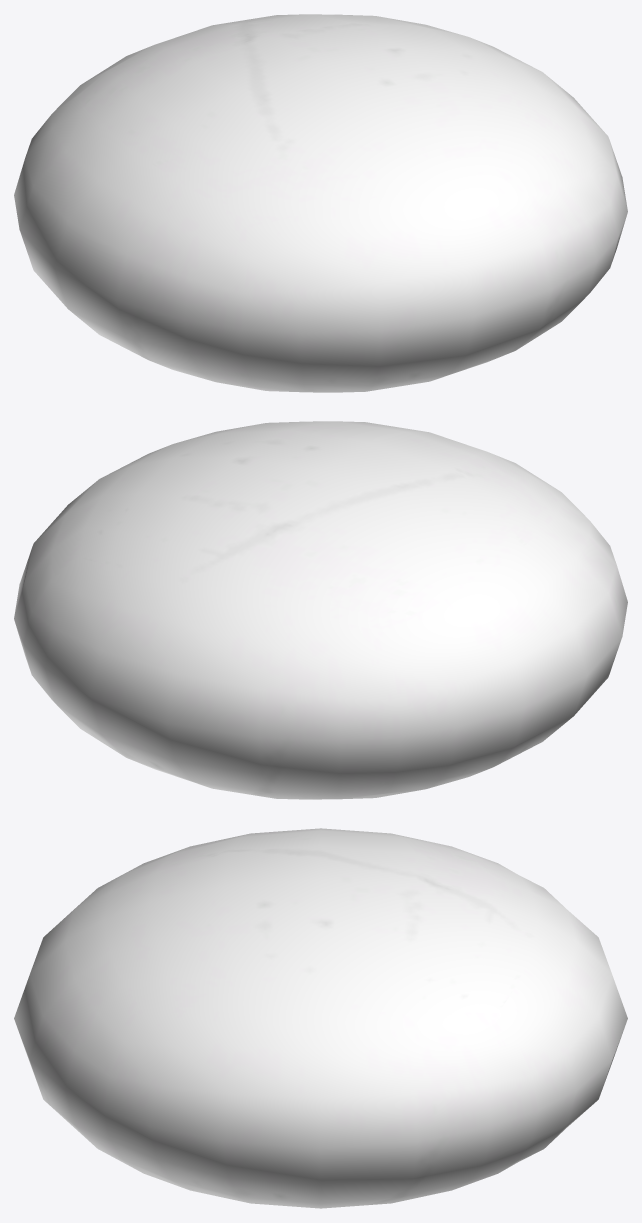
Rendered from water.obj.
3 views of the same model, one above another, from view 1: azimuth 30°, elevation 25°; view 2: azimuth 150°, elevation 25°; view 3: azimuth 270°, elevation 25° (orthographic).
Parts seen in each view (by area): view 1: Water1; view 2: Water1; view 3: Water1.
Part boxes in pixels (bbox=[...]): Water1: bbox=[14, 14, 627, 392]; Water1: bbox=[14, 421, 627, 799]; Water1: bbox=[14, 828, 627, 1208].
Size of the model in its own units: 2 by 1 by 2.
Materials: 1 (1 with a texture image).
